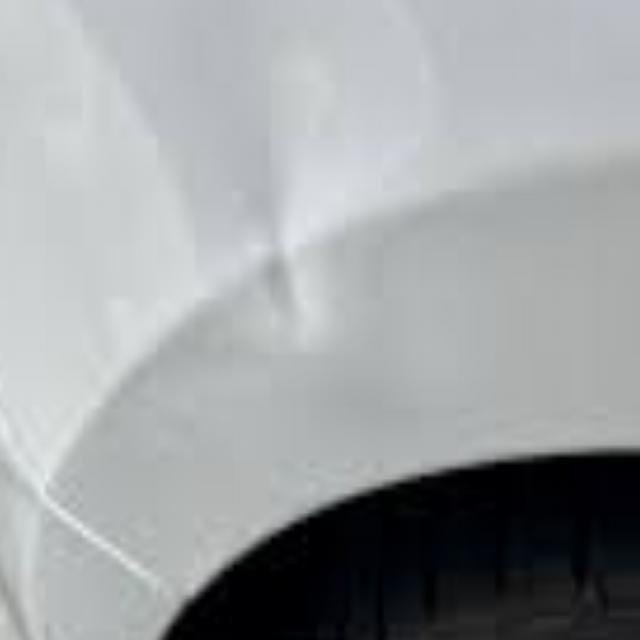dents: (219, 182, 347, 367)
